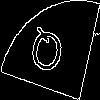Q: (25, 25, 67, 83)
